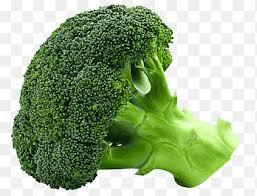non-mango: (10, 3, 239, 190)
